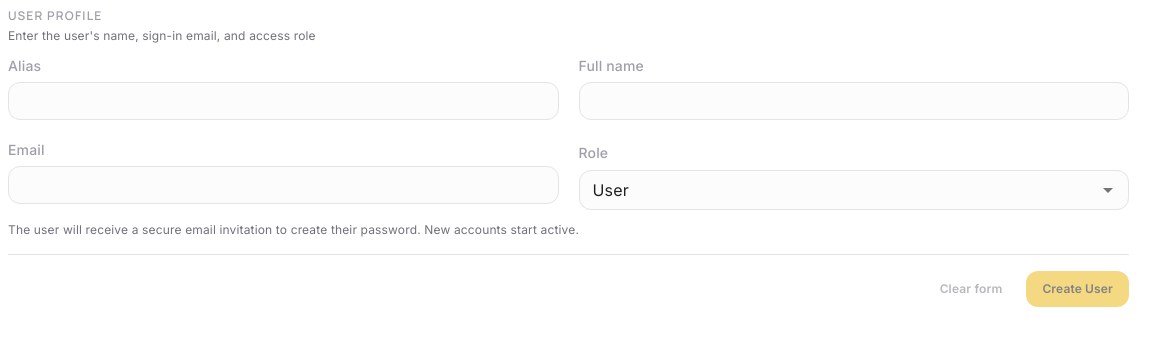
Test case: NewUserForm › does not create an incomplete user
Type "Incomplete User" into the field labelled "Alias" at (283, 101), box [8,82,558,120]
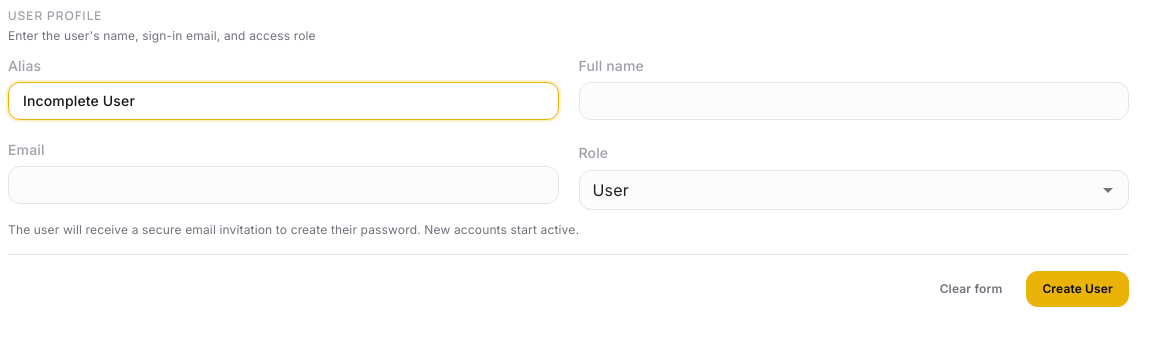
Click the button "Create User" at (1078, 289), box [1026,271,1129,307]
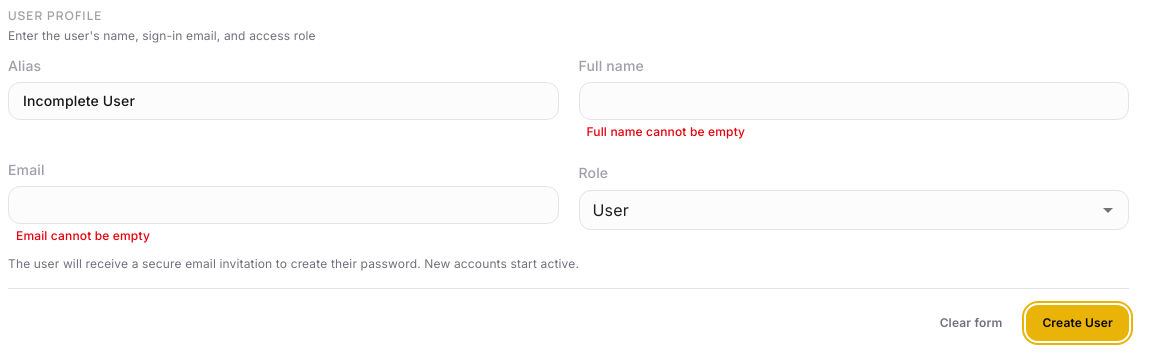
Expected: the message "Full name cannot be empty" is shown, [586,124,745,139]
Expected: the message "Email cannot be empty" is shown, [16,228,150,243]
